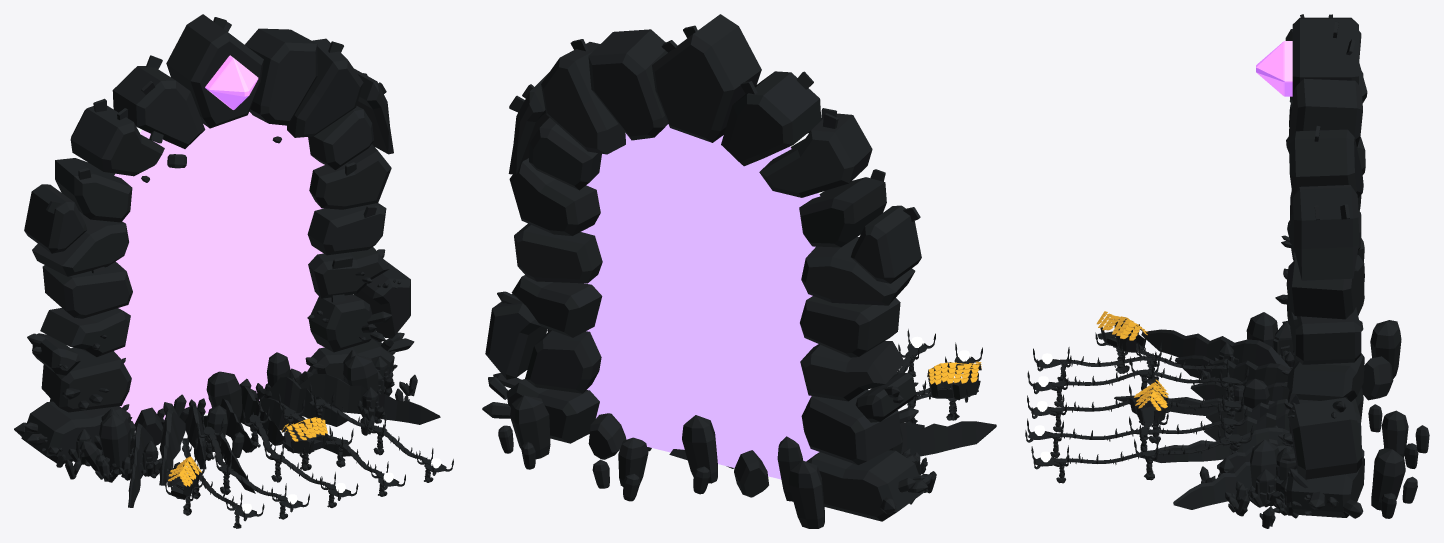
Rendered from natural_great_portal.fbx.
3 renders of one model, left to right at view 1: azimuth 30°, elevation 25°; view 2: azimuth 150°, elevation 25°; view 3: azimuth 270°, elevation 25°, orthographic. The views are drawn at different scales.
Visible parts, largest first — view 1: GreatPortal_combined, GreatPortal_texture, pPlane163, pPlane162, pPlane156, pPlane161, pPlane158, pPlane160, pPlane157, pPlane159, pPlane155; view 2: GreatPortal_combined, GreatPortal_texture, pPlane158; view 3: GreatPortal_combined, pPlane158, pPlane156, pPlane157, pPlane163, pPlane161, pPlane160, pPlane159, pPlane155.
Boxes of the visible parts, x1,y1,x2,y2 form: GreatPortal_combined: (14,14,417,482); GreatPortal_texture: (114,112,324,423); pPlane163: (299,374,440,424); pPlane162: (261,377,347,426); pPlane156: (159,409,185,485); pPlane161: (240,385,284,445); pPlane158: (128,423,153,507); pPlane160: (185,405,206,469); pPlane157: (258,398,358,456); pPlane159: (220,398,254,452); pPlane155: (201,415,255,493); GreatPortal_combined: (482,14,936,528); GreatPortal_texture: (581,124,820,479); pPlane158: (900,421,996,456); GreatPortal_combined: (1199,14,1429,528); pPlane158: (1141,329,1290,368); pPlane156: (1175,355,1291,386); pPlane157: (1140,427,1287,462); pPlane163: (1173,445,1293,509); pPlane161: (1204,409,1289,440); pPlane160: (1190,381,1289,401); pPlane159: (1206,399,1288,422); pPlane155: (1114,395,1274,415).
Size of the model in its own units: 5551 by 5481 by 4710.
